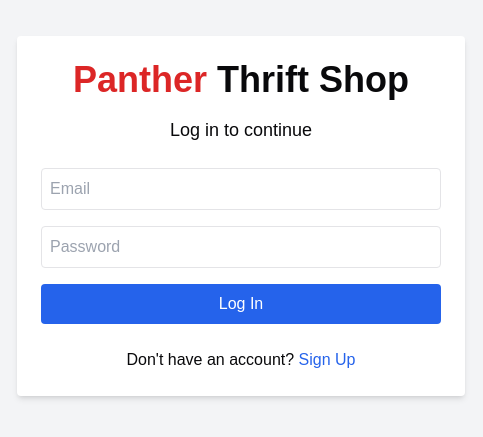
Test: Login Component › displays an error message when login fails
Note: Simulate user input
In the field with placeholder "Email": (241, 189) [41, 168, 441, 210], type "test@example.com"
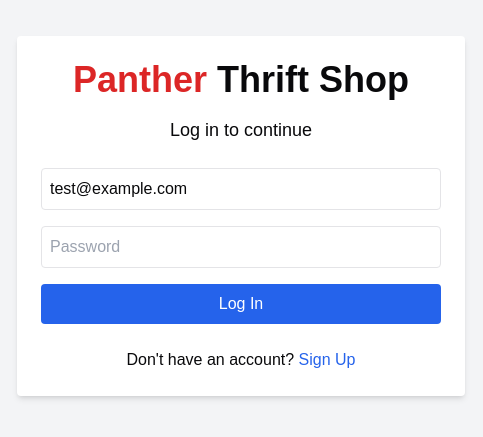
In the password field with placeholder "Password": (241, 247) [41, 226, 441, 268], type "password123"
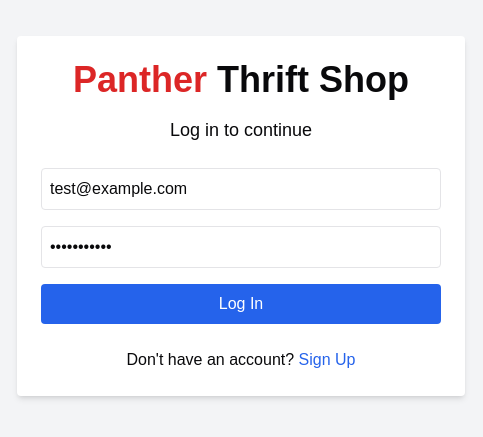
Note: Click the login button
Click the button "Log In": (241, 304) [41, 284, 441, 324]
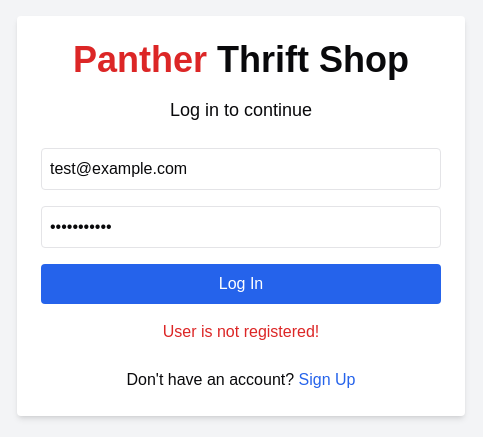
Result: the text "User is not registered!" is shown at [163, 323, 319, 340]
